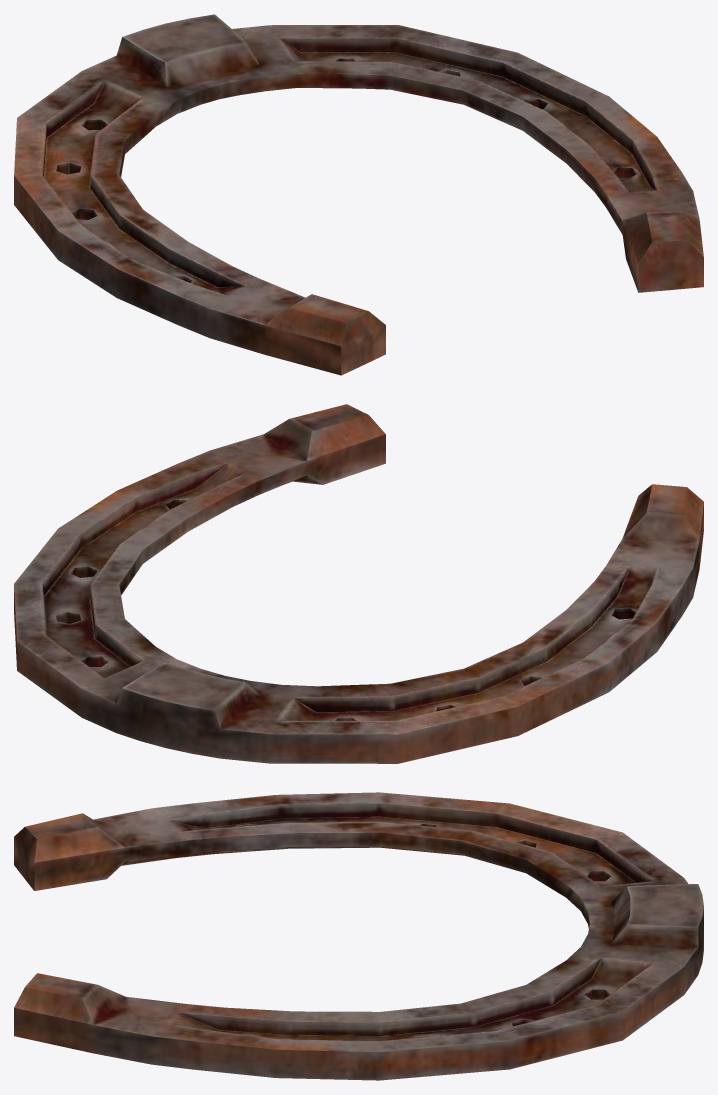
File: horse_shoe.glb
The picture shows the model from 3 angles, top to bottom: view 1: azimuth 30°, elevation 25°; view 2: azimuth 150°, elevation 25°; view 3: azimuth 270°, elevation 25°; orthographic projection. The views are drawn at different scales.
Parts seen in each view (by area): view 1: horse_shoe; view 2: horse_shoe; view 3: horse_shoe.
Boxes of the visible parts, x1,y1,x2,y2 form: horse_shoe: (14, 14, 703, 375); horse_shoe: (14, 404, 703, 763); horse_shoe: (14, 792, 703, 1080).
Size of what is drawn, in the model's own units: 0.1248 by 0.0101 by 0.14.
Materials: 1 (1 with a texture image).
